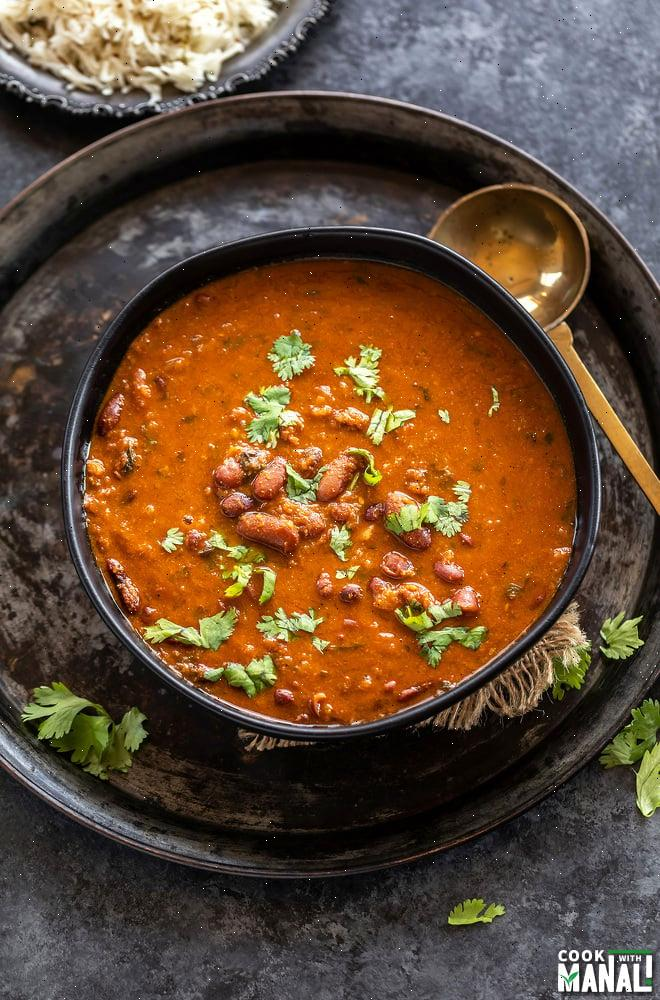rajma: (82, 268, 620, 700)
